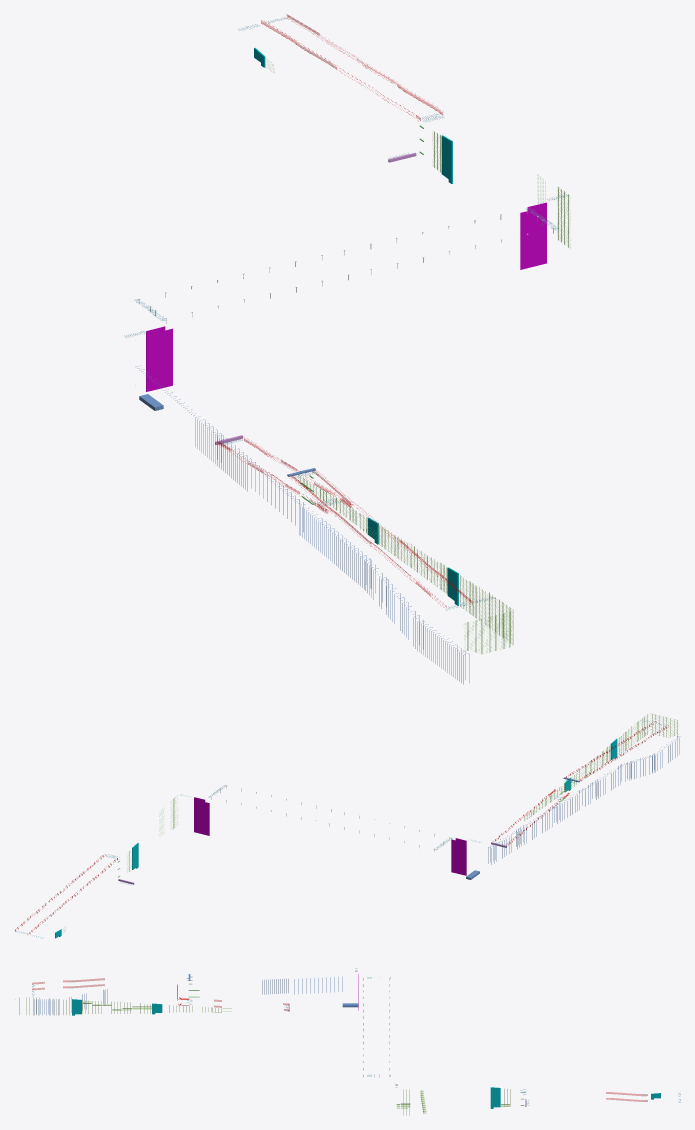
3 renders of one model, top to bottom at view 1: azimuth 30°, elevation 25°; view 2: azimuth 150°, elevation 25°; view 3: azimuth 270°, elevation 25°, orthographic. The views are drawn at different scales.
Visible parts, largest first — view 1: 1IEzkf000_RJ4pDpasE34o, 1IEzkf000_QJ4pDpasE34m, 1IG2e50003tZ4pDpavCpam; view 2: 1IEzkf000_RJ4pDpasE34o, 1IEzkf000_QJ4pDpasE34m; view 3: no part large enough to name.
Boxes of the visible parts, left/top/right/bottom form: 1IEzkf000_RJ4pDpasE34o: left=146, top=326, right=172, bottom=391; 1IEzkf000_QJ4pDpasE34m: left=520, top=202, right=546, bottom=269; 1IG2e50003tZ4pDpavCpam: left=300, top=505, right=366, bottom=589; 1IEzkf000_RJ4pDpasE34o: left=451, top=838, right=466, bottom=875; 1IEzkf000_QJ4pDpasE34m: left=194, top=797, right=209, bottom=835.
Bounding box in the file's own units: 56.53 × 10.8 × 133.
